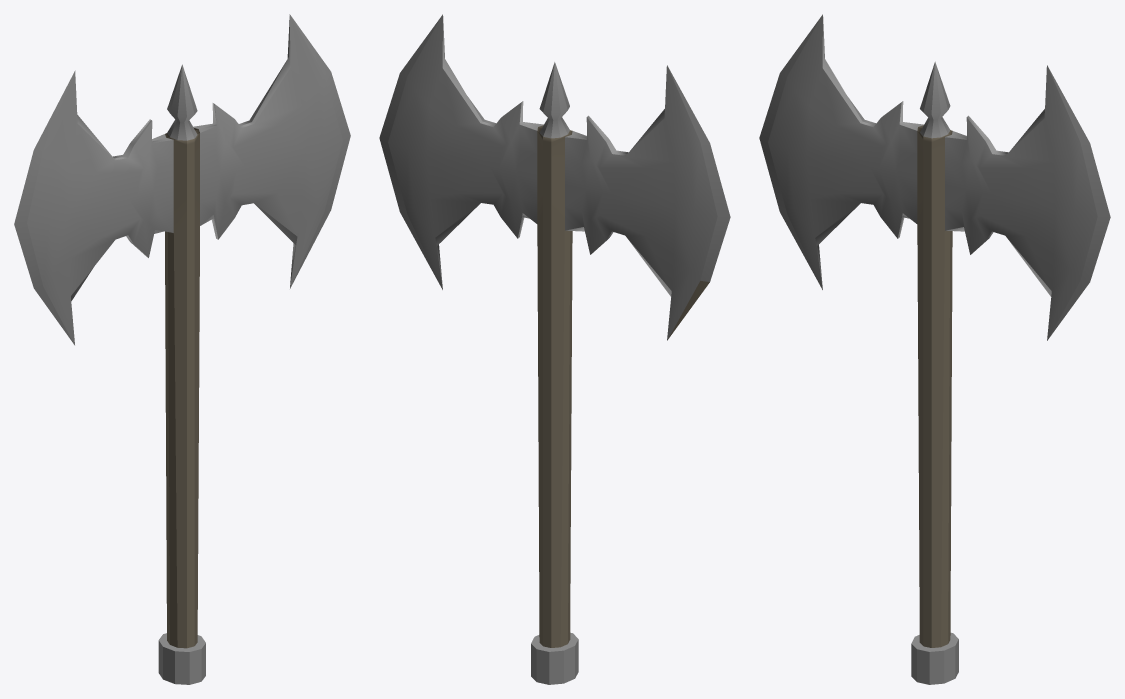
Rendered from Axe.fbx.
3 views of the same model, side by side, from view 1: azimuth 30°, elevation 25°; view 2: azimuth 150°, elevation 25°; view 3: azimuth 330°, elevation 25° (orthographic).
Parts seen in each view (by area): view 1: Axe; view 2: Axe; view 3: Axe.
Boxes of the visible parts, box(x1,y1,x2,y2) form: Axe: box(14, 14, 350, 684); Axe: box(379, 14, 730, 684); Axe: box(759, 14, 1110, 684).
Bounding box in the file's own units: 288 × 507 × 36.85.
